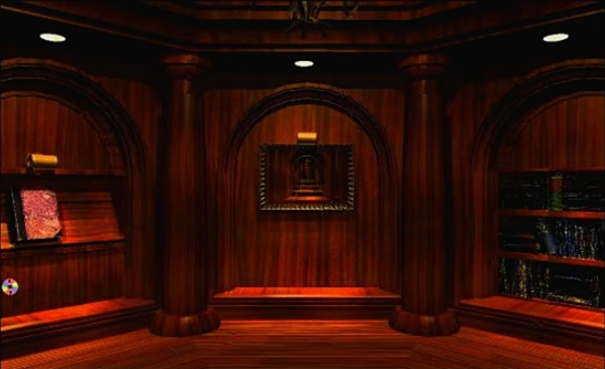Waiting: (0, 275, 22, 296)
